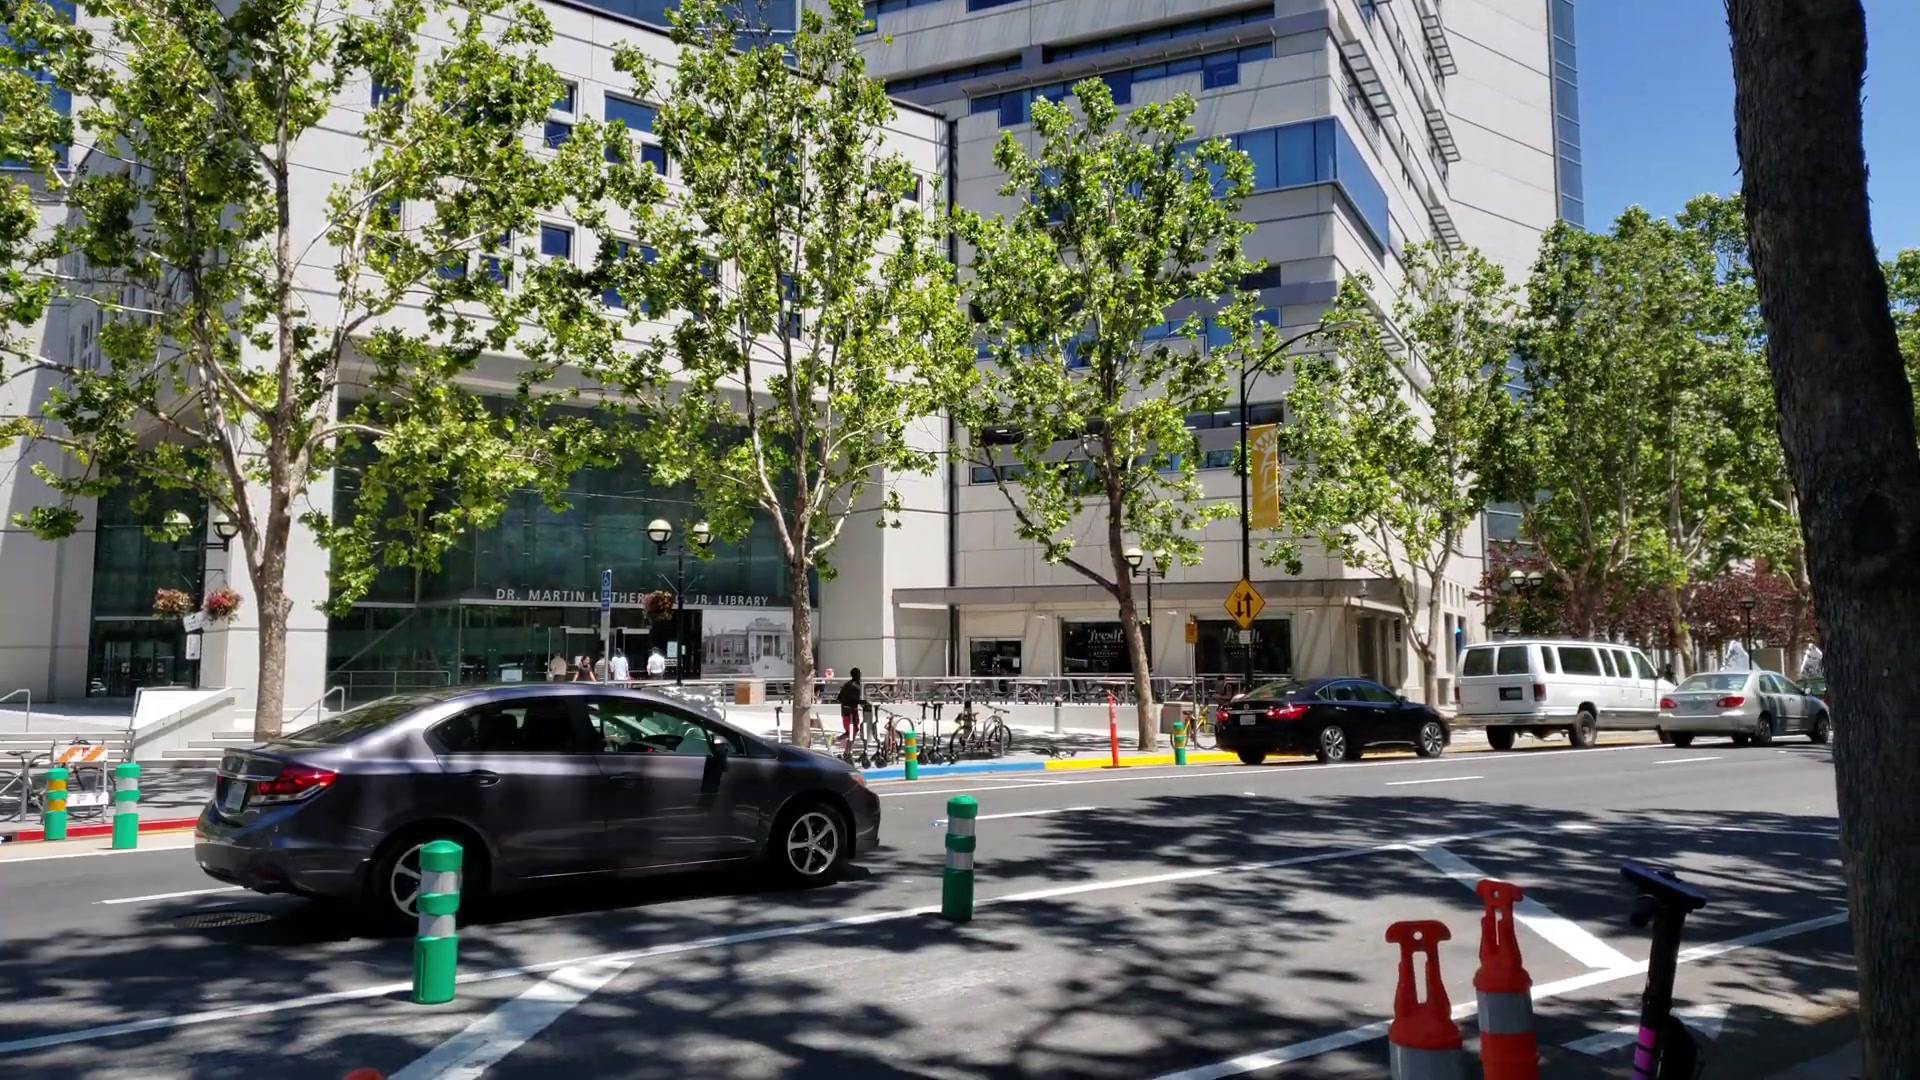vehicle_away: (196, 682, 880, 916), (1218, 676, 1452, 760), (1662, 671, 1828, 744)
